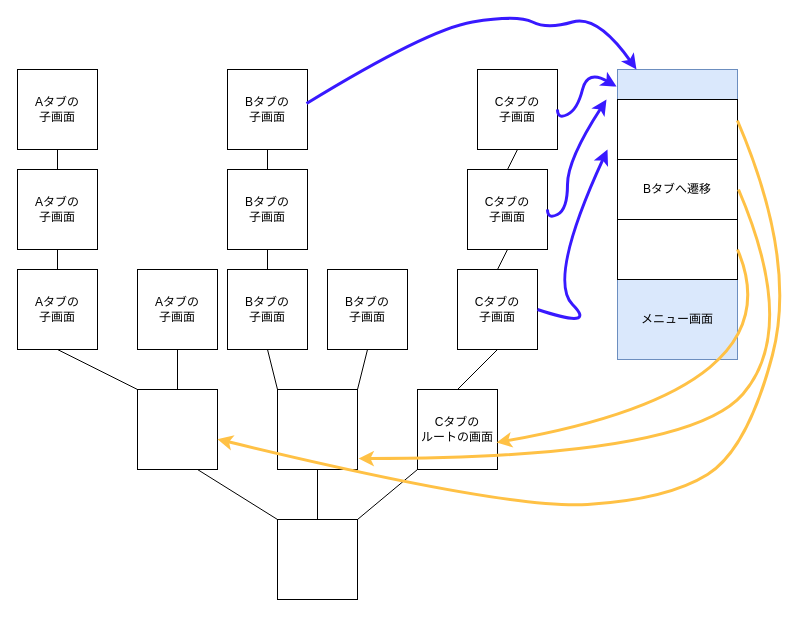
The diagram is 799 pixels wide and 618 high, and some of its shapes have lost their labels. Each missing label, with the box of its shape:
Aタブの ルートの画面: (136, 388, 218, 470)
Aタブへ遷移: (616, 98, 738, 160)
Bタブの ルートの画面: (276, 388, 358, 470)
Cタブへ遷移: (616, 218, 738, 280)
メインのタブ画面: (276, 518, 358, 600)
